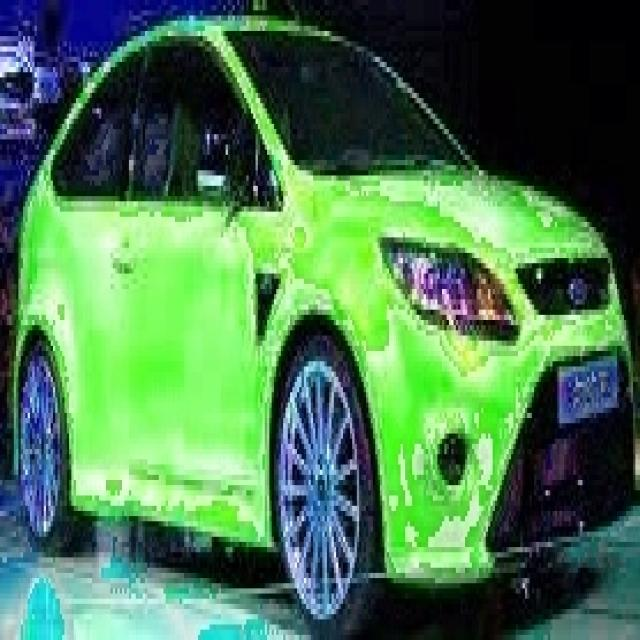green: (15, 20, 636, 640)
